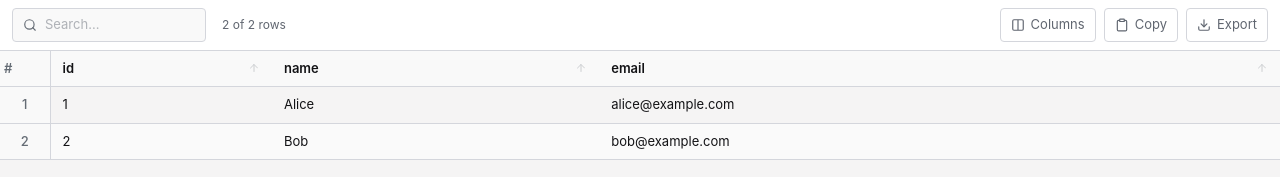
[@results-table] [@core] ResultsTable › [@results-table] search functionality › should filter rows based on search term
Type "Alice" into the field with placeholder "Search...". click: point(120, 25)
box: [45,15,195,34]
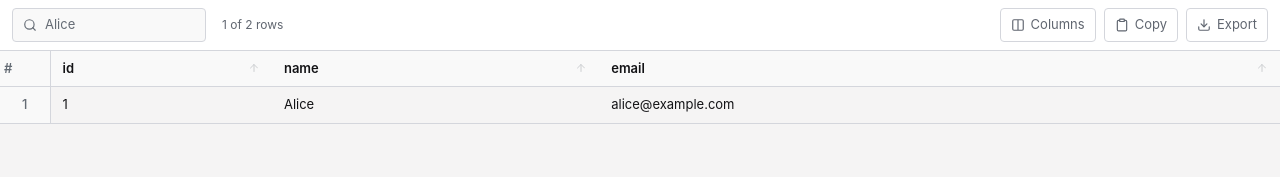
Expected: the text "Alice" is shown, [272,86,599,123]
Expected: the text "Bob" is gone
